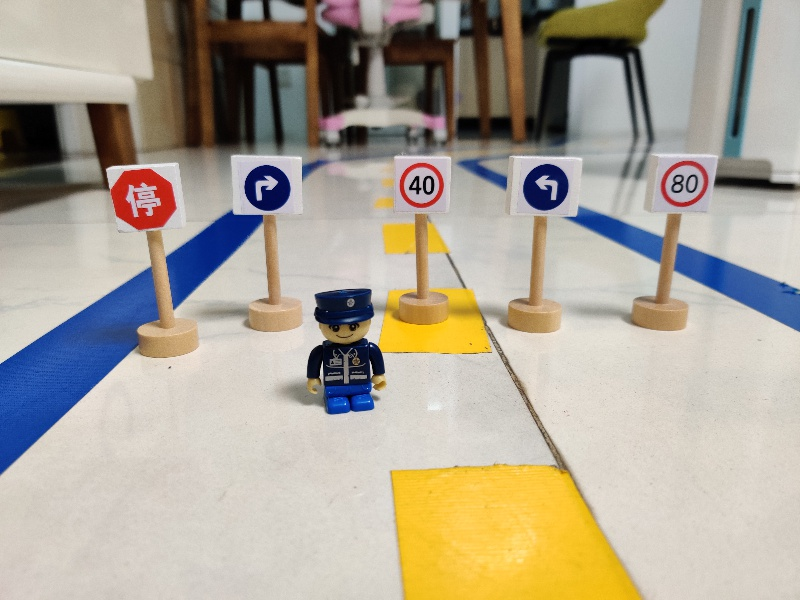limit_40: (388, 153, 454, 215)
limit_80: (646, 150, 715, 214)
person: (300, 281, 391, 417)
stop: (103, 163, 187, 234)
turn_left: (506, 152, 584, 219)
turn_right: (227, 150, 306, 220)
